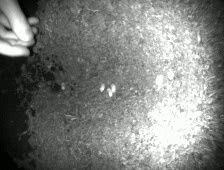corn: (153, 72, 167, 87), (96, 80, 107, 93), (104, 85, 114, 98), (109, 81, 118, 95), (57, 80, 67, 92)
